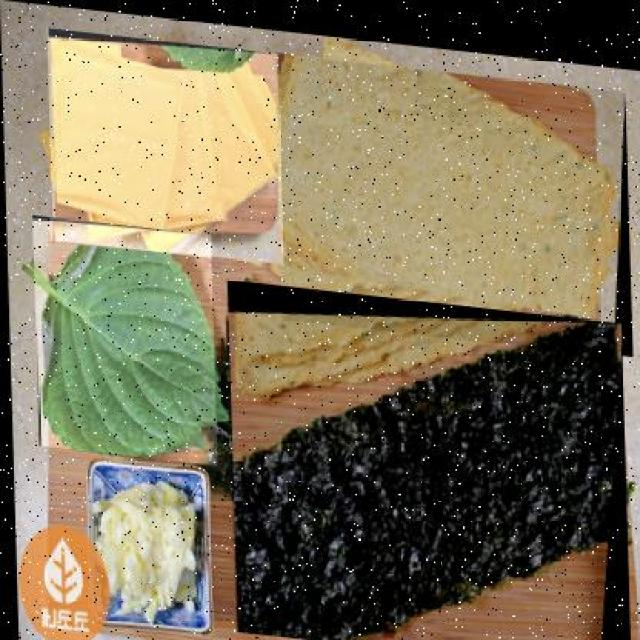cheese: (44, 28, 284, 260)
fish_cake: (272, 46, 631, 343)
seaweed: (222, 274, 628, 638)
seseme: (29, 214, 215, 462)
